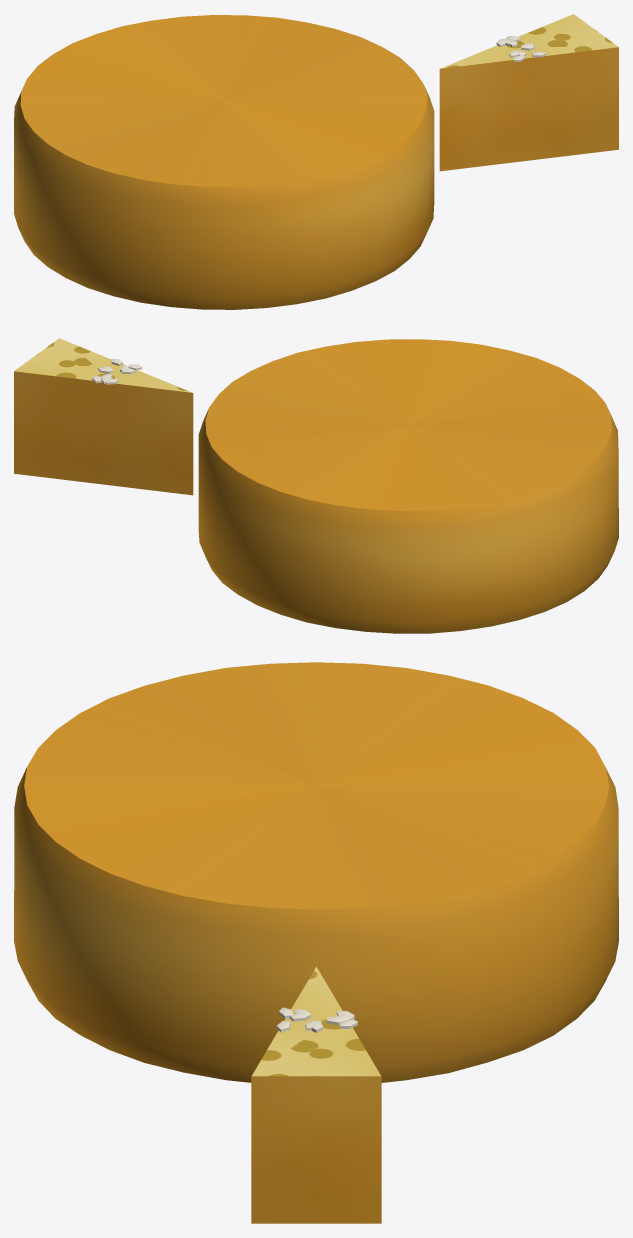
File: deli_parmesan_wheel_wedge.glb
3 views of the same model, one above another, from view 1: azimuth 30°, elevation 25°; view 2: azimuth 150°, elevation 25°; view 3: azimuth 270°, elevation 25° (orthographic). The views are drawn at different scales.
Parts seen in each view (by area): view 1: deli_parmesan_wheel_wedge; view 2: deli_parmesan_wheel_wedge; view 3: deli_parmesan_wheel_wedge.
Part boxes in pixels (x1,y1,x2,y2): deli_parmesan_wheel_wedge: (14, 14, 618, 309); deli_parmesan_wheel_wedge: (14, 338, 618, 633); deli_parmesan_wheel_wedge: (14, 662, 618, 1223).
Size of the model in its own units: 0.5661 by 0.1203 by 0.3722.
Materials: 3 (2 with a texture image).
